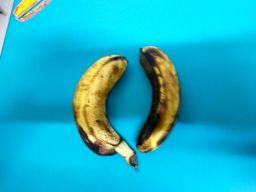banana: (70, 48, 141, 172), (136, 44, 183, 154)
